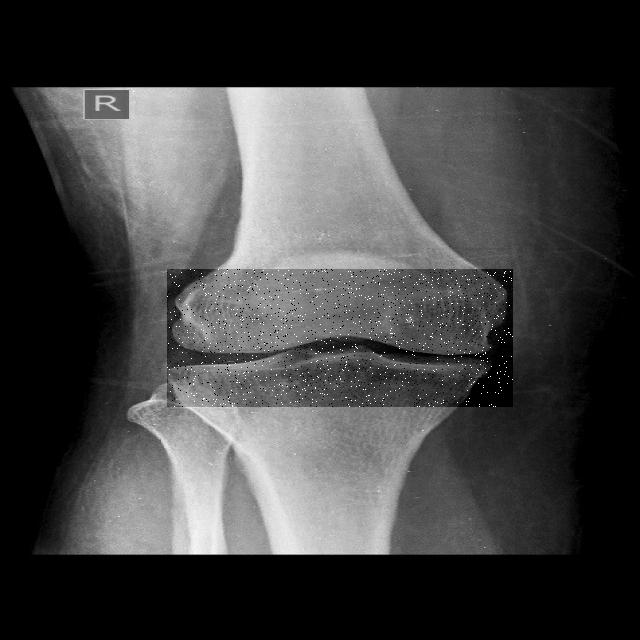normal: (167, 269, 513, 407)
